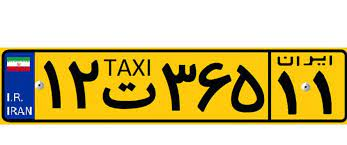character: (102, 56, 158, 113), (161, 60, 198, 115), (64, 55, 99, 113), (196, 60, 232, 114), (231, 60, 266, 113), (102, 82, 159, 113), (40, 58, 67, 113), (310, 69, 339, 116), (276, 69, 303, 116), (117, 59, 132, 78), (133, 58, 146, 78), (104, 58, 117, 77), (147, 58, 155, 78)
